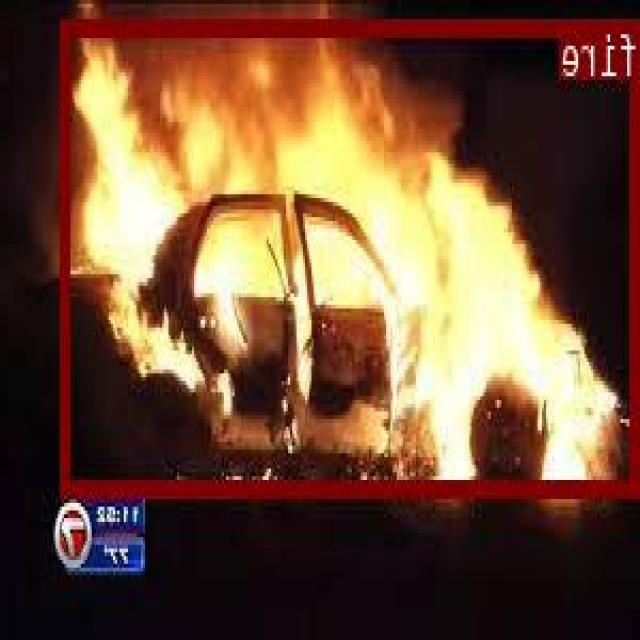fire: (62, 17, 640, 493)
